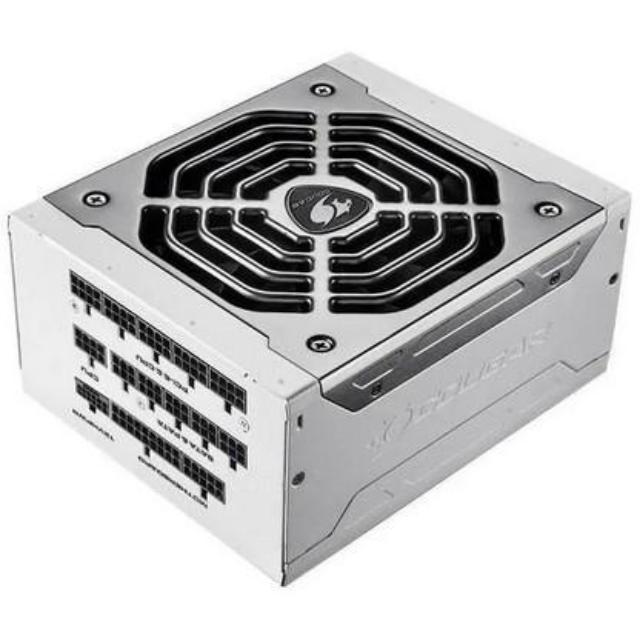PSU: (0, 48, 640, 588)
